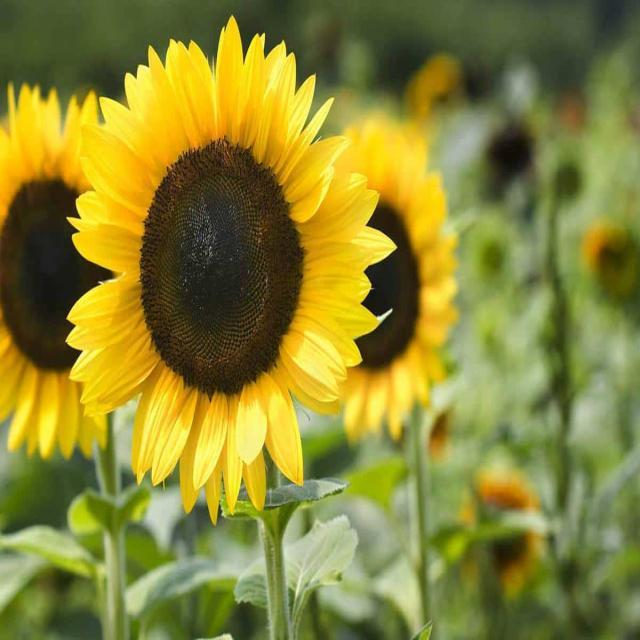sunflower: (64, 13, 398, 525), (330, 112, 459, 442), (0, 80, 110, 460), (460, 462, 546, 600), (406, 45, 459, 115), (582, 226, 619, 276)
